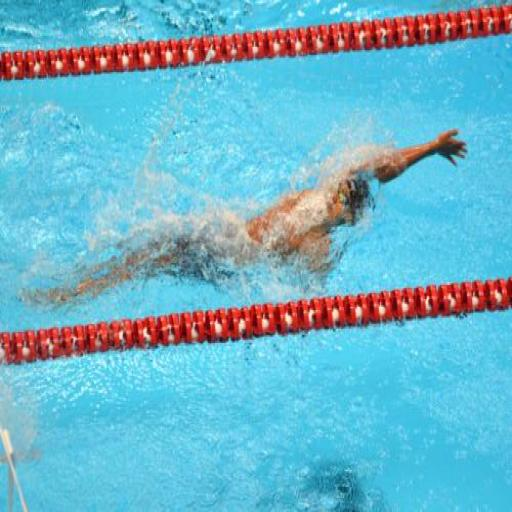swimming: (16, 122, 469, 312)
